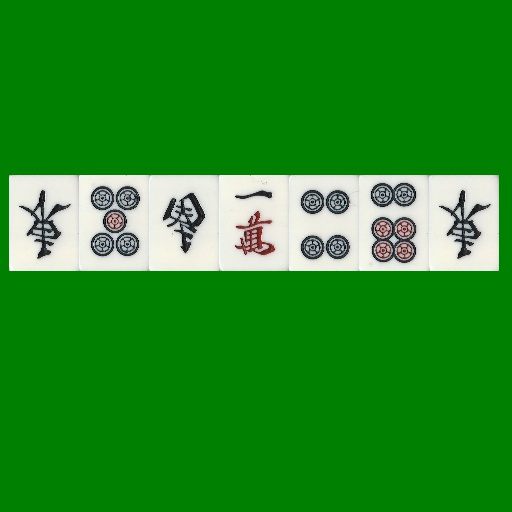1m: (219, 175, 289, 271)
4p: (289, 175, 359, 271)
5p: (79, 175, 149, 271)
6p: (359, 175, 429, 271)
east: (9, 175, 79, 271), (429, 175, 499, 271)
south: (149, 175, 219, 271)
